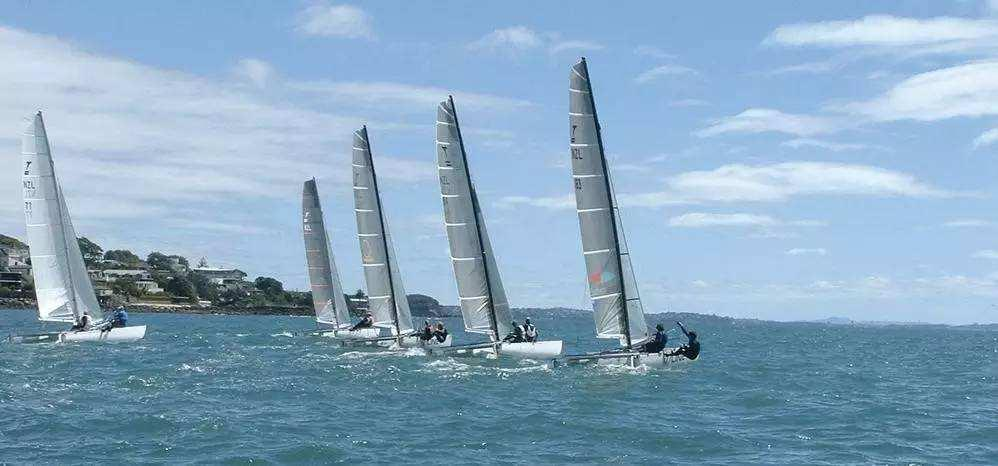fanchuan: (559, 54, 702, 368), (430, 96, 561, 362), (20, 100, 146, 345), (339, 122, 418, 348), (287, 176, 353, 339)
